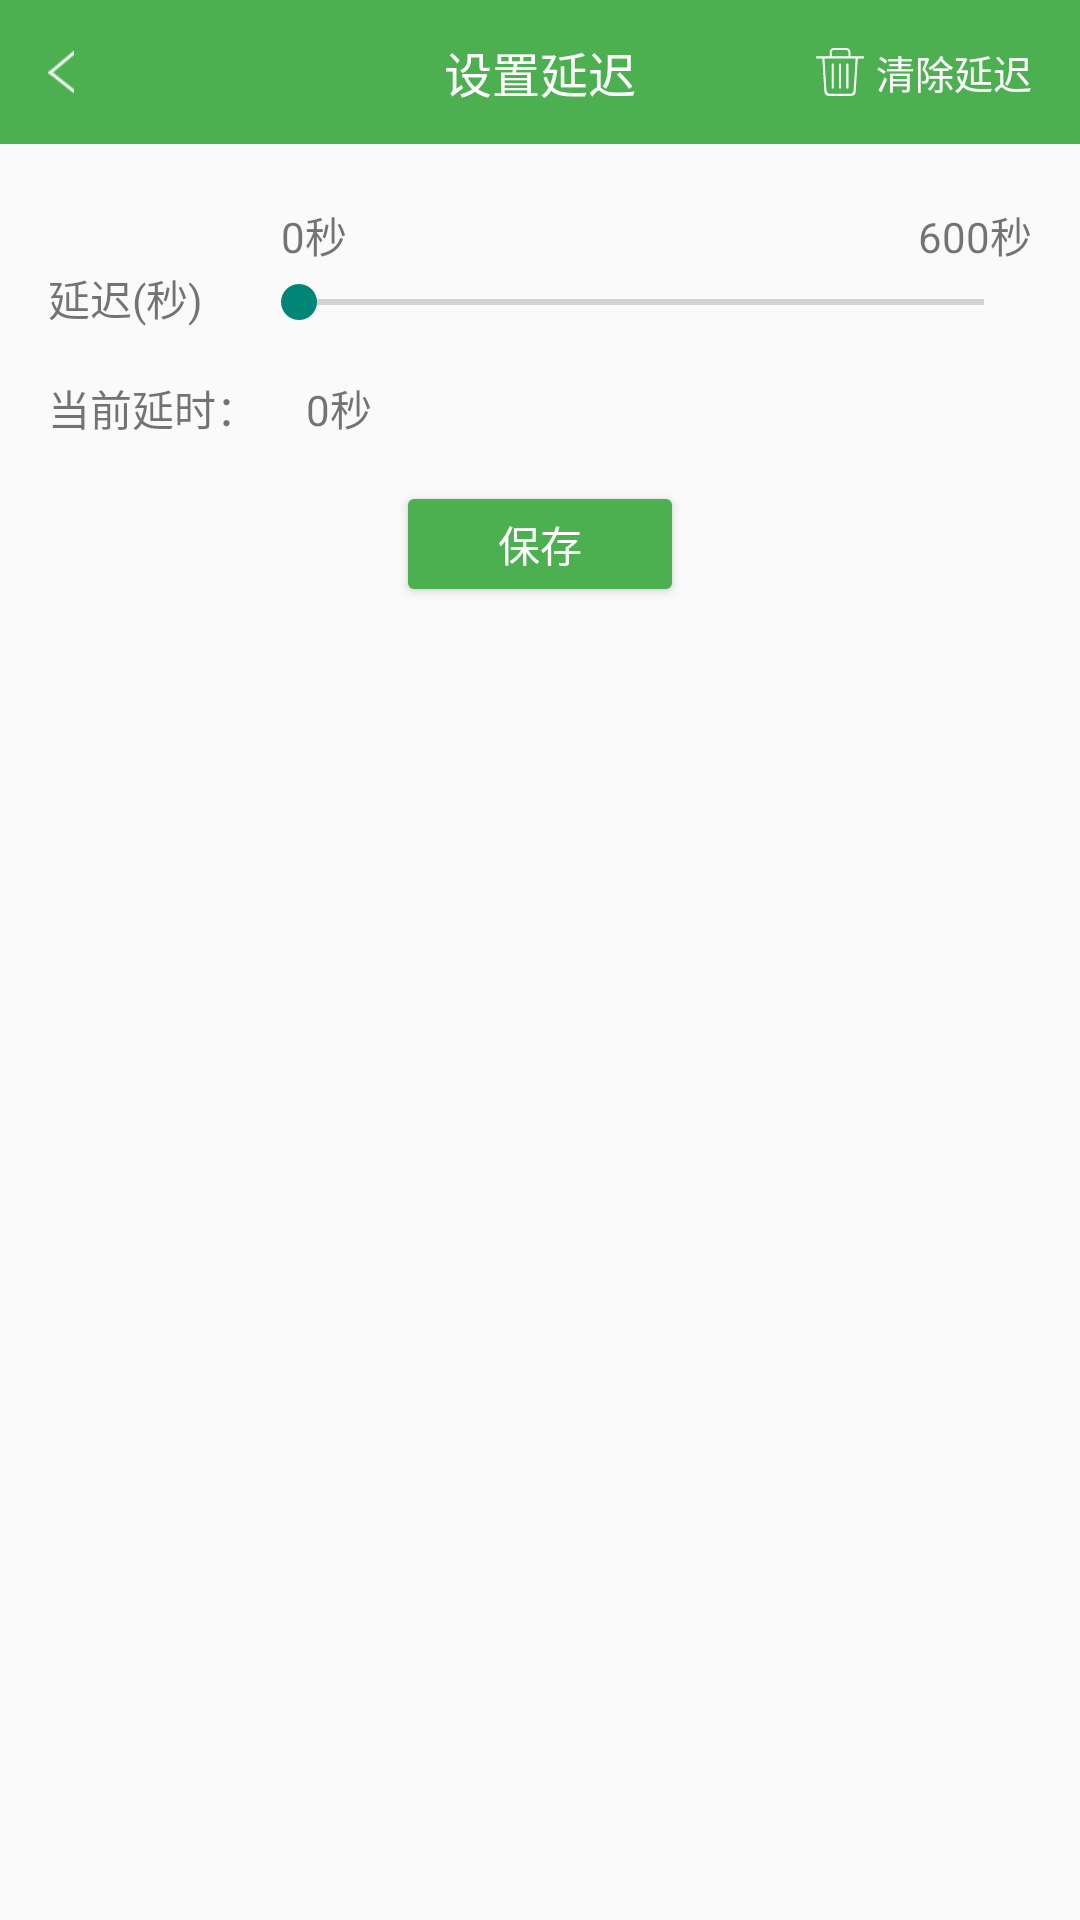

Icons on this 1080 x 1920 Android screen, each with the point to tap as (x=x, y=y):
back: (x=61, y=72)
